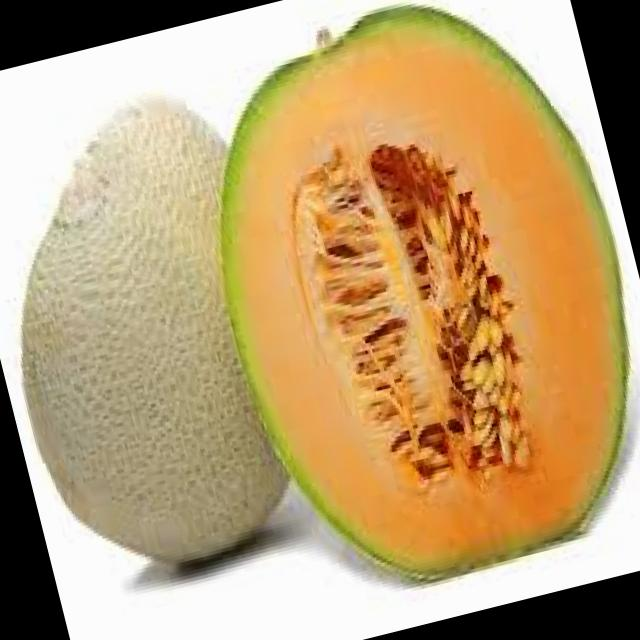cantaloupe: (167, 0, 640, 607), (0, 78, 327, 595)
